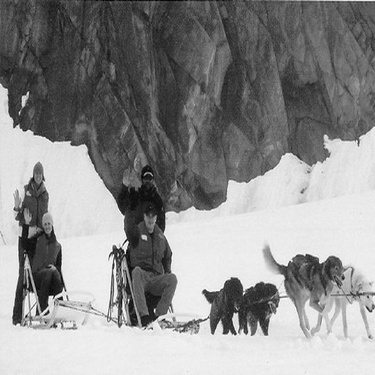dog: (234, 243, 348, 342), (324, 254, 368, 342), (224, 282, 285, 343), (189, 273, 247, 333)
